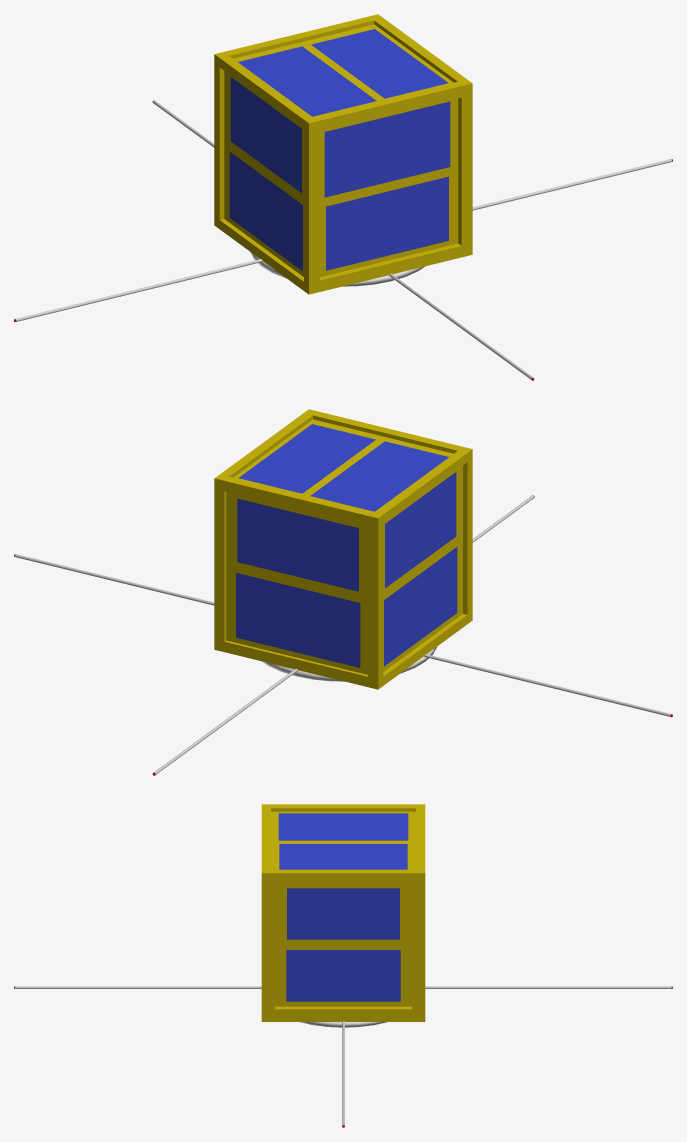
File: cubesat.fbx
The picture shows the model from 3 angles, top to bottom: view 1: azimuth 30°, elevation 25°; view 2: azimuth 150°, elevation 25°; view 3: azimuth 270°, elevation 25°; orthographic projection. The views are drawn at different scales.
Parts seen in each view (by area): view 1: Cube, Cylinder, Cylinder.001, Circle; view 2: Cube, Cylinder, Cylinder.001, Circle; view 3: Cube, Cylinder.001.
Boxes of the visible parts, x1,y1,x2,y2 form: Cube: [214, 14, 472, 294]; Cylinder: [16, 159, 671, 321]; Cylinder.001: [152, 100, 532, 379]; Circle: [250, 252, 424, 286]; Cube: [214, 409, 472, 689]; Cylinder: [14, 554, 670, 716]; Cylinder.001: [154, 495, 534, 774]; Circle: [262, 647, 436, 681]; Cube: [261, 804, 425, 1021]; Cylinder.001: [15, 986, 671, 988].
Bounding box in the file's own units: 804 × 208 × 804.
